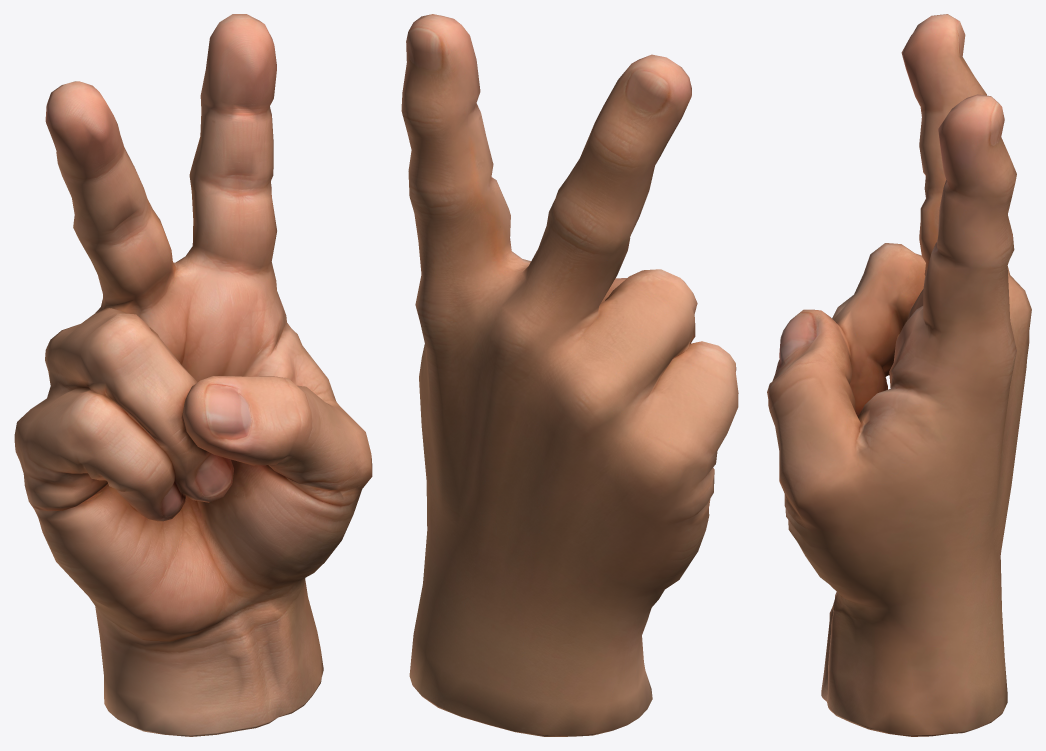
The model's file is Siccor.glb.
3 views of the same model, side by side, from view 1: azimuth 30°, elevation 25°; view 2: azimuth 150°, elevation 25°; view 3: azimuth 270°, elevation 25° (orthographic). The views are drawn at different scales.
Parts seen in each view (by area): view 1: tripo_node_21cbb20b-9ac1-4b90-952d-84c0afd8885a; view 2: tripo_node_21cbb20b-9ac1-4b90-952d-84c0afd8885a; view 3: tripo_node_21cbb20b-9ac1-4b90-952d-84c0afd8885a.
Part boxes in pixels (<box>): tripo_node_21cbb20b-9ac1-4b90-952d-84c0afd8885a: <box>14,14,372,736</box>; tripo_node_21cbb20b-9ac1-4b90-952d-84c0afd8885a: <box>401,14,738,736</box>; tripo_node_21cbb20b-9ac1-4b90-952d-84c0afd8885a: <box>767,14,1031,736</box>.
Size of the model in its own units: 0.4574 by 0.978 by 0.3732.
Materials: 1 (1 with a texture image).
